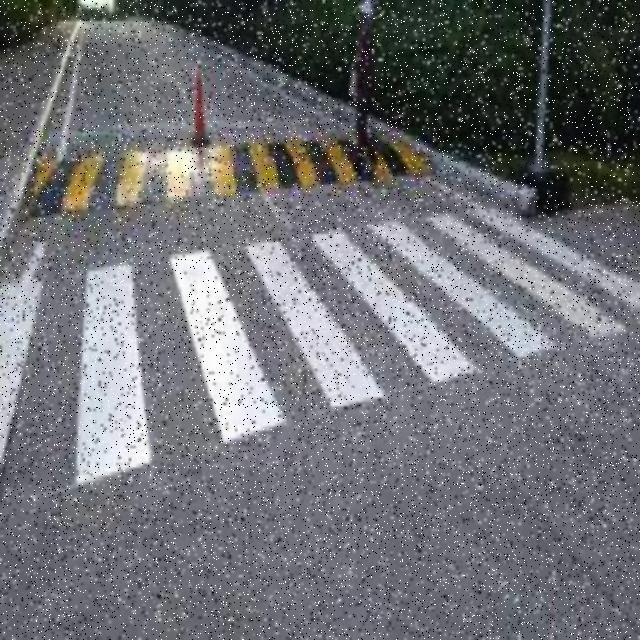crosswalk: (2, 205, 640, 508)
